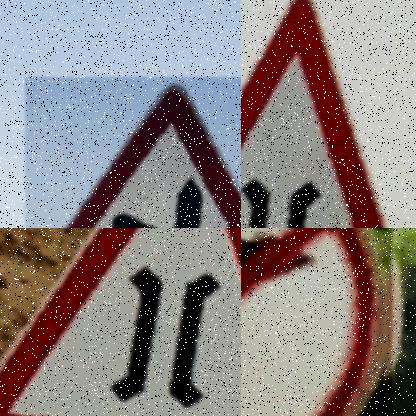Bridge Ahead: (0, 228, 241, 416), (241, 0, 390, 228)
No right turn: (241, 228, 391, 416)
Zigzag Road Ahead: (72, 77, 241, 228)
